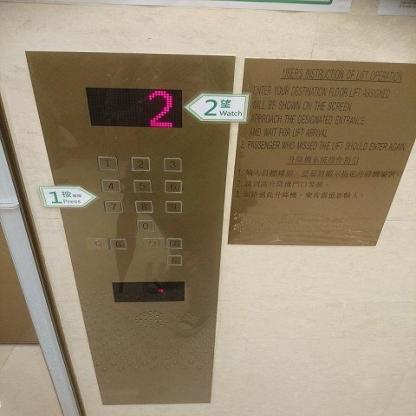0: (134, 217, 154, 232)
1: (95, 154, 120, 171)
2: (128, 154, 151, 172)
3: (160, 156, 183, 172)
4: (98, 176, 121, 193)
5: (130, 177, 153, 193)
6: (161, 178, 184, 194)
7: (101, 198, 124, 213)
8: (133, 199, 154, 213)
9: (162, 199, 185, 213)
G: (81, 236, 109, 251), (107, 236, 128, 250)
LG: (140, 236, 166, 250), (165, 237, 183, 248)
blur: (164, 253, 183, 266)
led: (80, 84, 184, 129), (110, 280, 186, 302)
